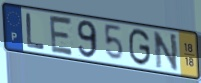5: (102, 24, 125, 64)
9: (76, 19, 99, 61)
E: (49, 14, 75, 58)
G: (128, 27, 152, 68)
L: (25, 12, 47, 52)
N: (152, 31, 180, 74)
